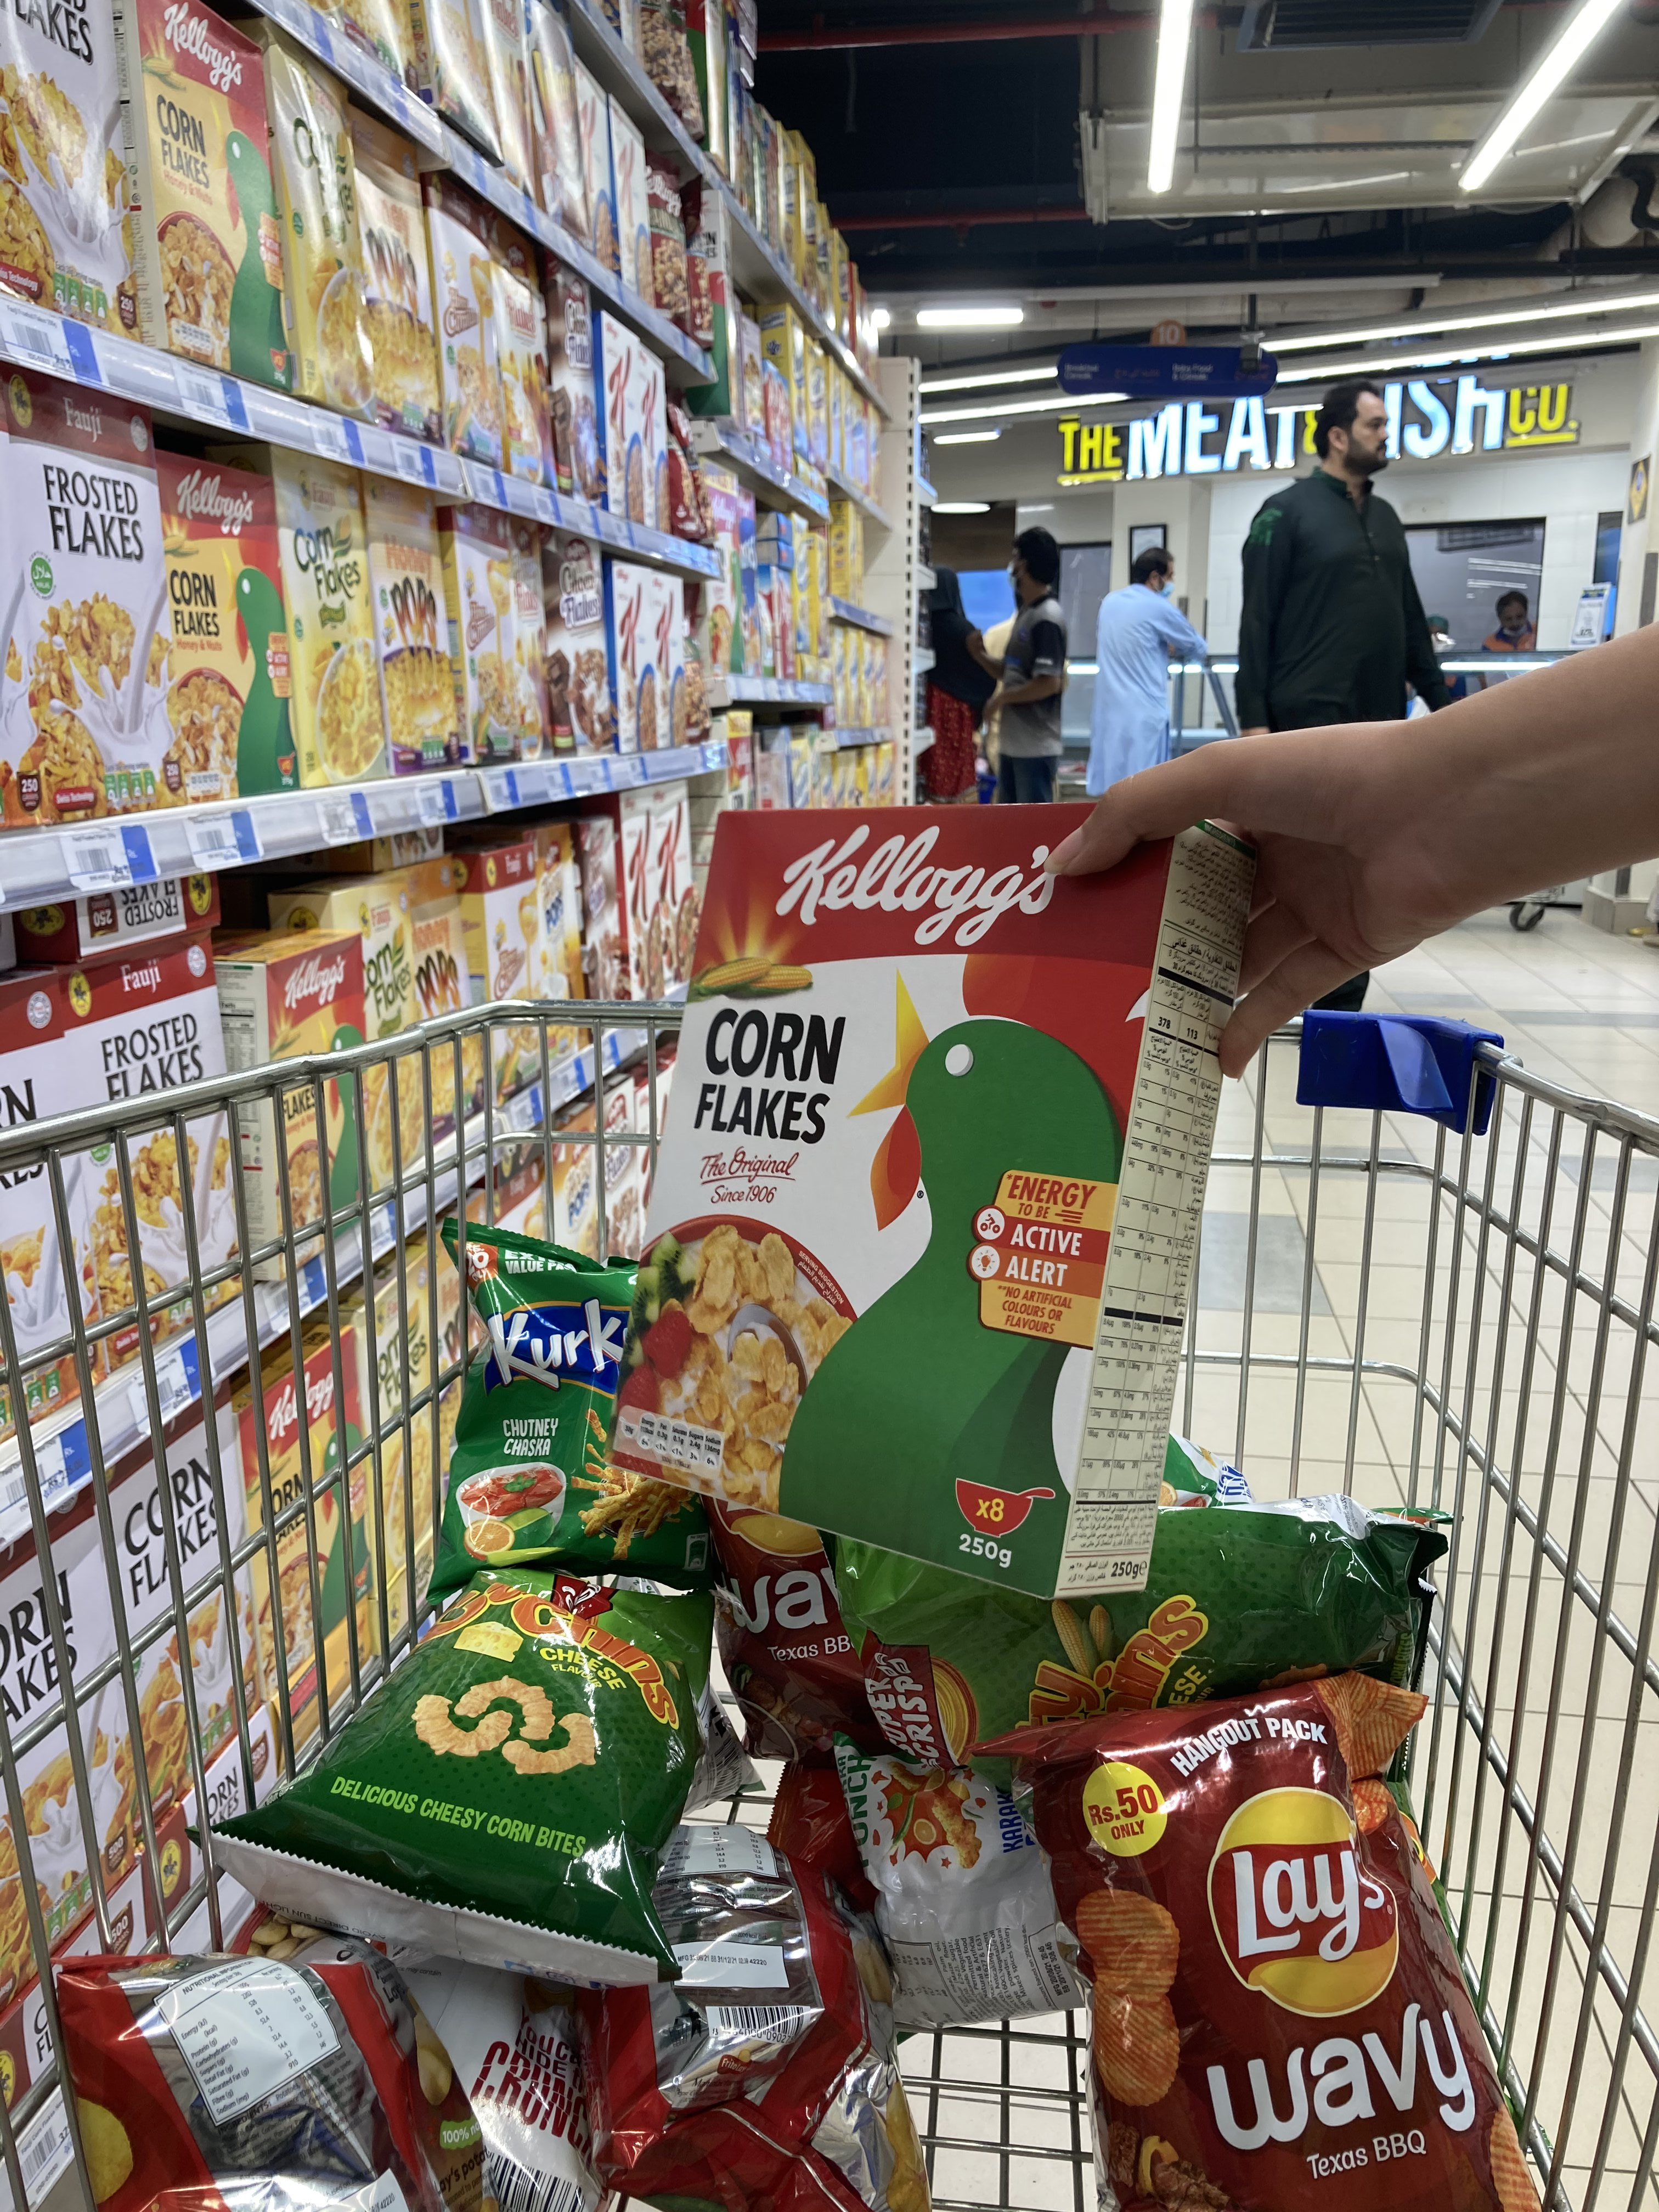Kellogg's Corn Flakes: (608, 798, 1249, 1597)
